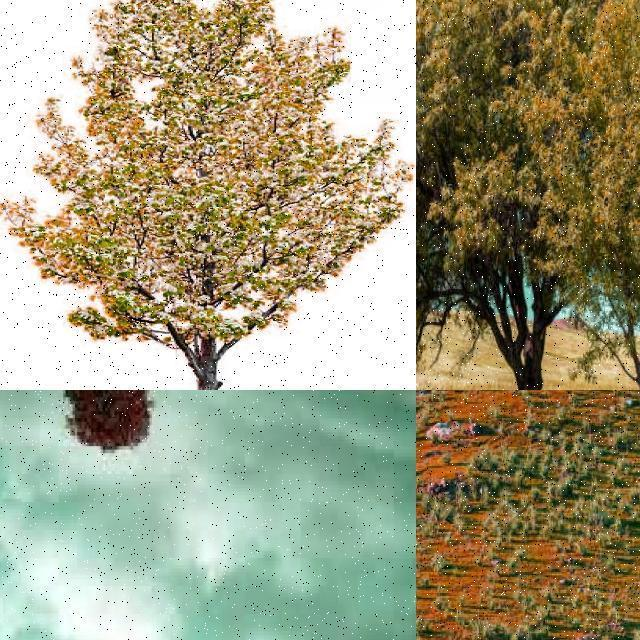tree: (16, 0, 388, 390), (416, 0, 640, 390), (526, 0, 640, 390), (48, 390, 160, 492), (417, 390, 448, 450)
